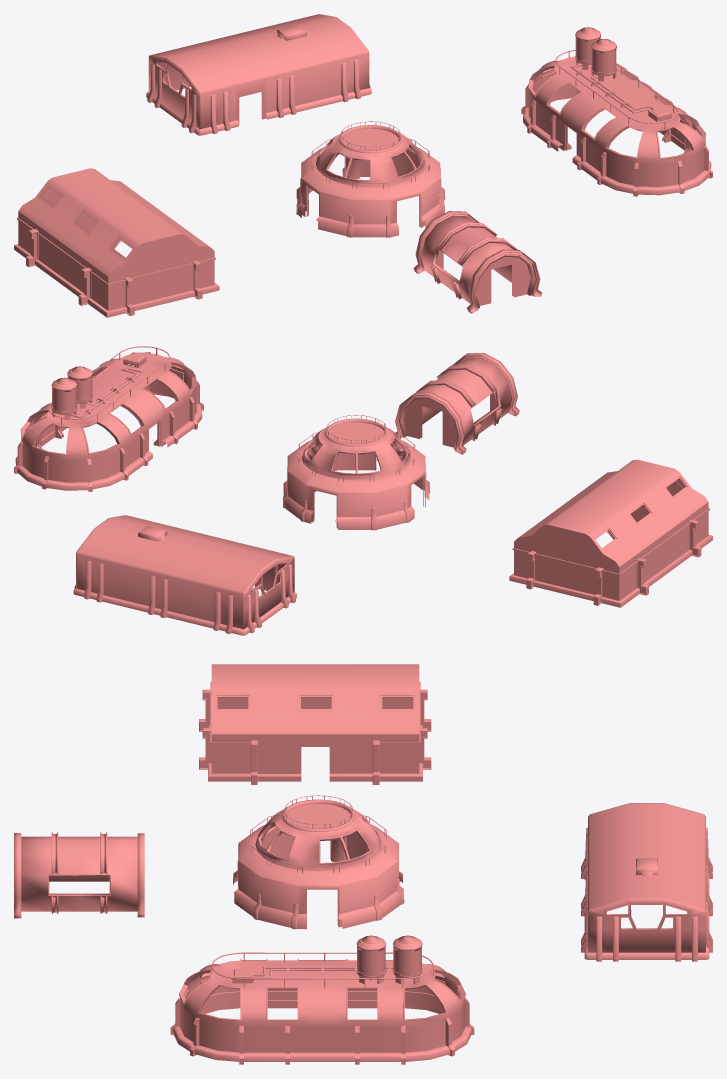
The model's file is Moduli_assemblati.FBX.
The picture shows the model from 3 angles, top to bottom: view 1: azimuth 30°, elevation 25°; view 2: azimuth 150°, elevation 25°; view 3: azimuth 270°, elevation 25°; orthographic projection. The views are drawn at different scales.
Parts seen in each view (by area): view 1: Lab_medico_low, laboratorio_ext, IDRO_muro, HUB_muro, Depressurizza, IDRO_Component, HUB_colonne; view 2: Lab_medico_low, laboratorio_ext, IDRO_muro, HUB_muro, Depressurizza, IDRO_Component, HUB_colonne; view 3: Lab_medico_low, IDRO_muro, laboratorio_ext, HUB_muro, IDRO_Component, Depressurizza, HUB_colonne.
Boxes of the visible parts, <box> form: Lab_medico_low: <box>14,168,219,317</box>; laboratorio_ext: <box>146,14,371,135</box>; IDRO_muro: <box>528,56,706,186</box>; HUB_muro: <box>296,128,445,237</box>; Depressurizza: <box>413,211,542,313</box>; IDRO_Component: <box>521,27,712,196</box>; HUB_colonne: <box>305,121,429,216</box>; Lab_medico_low: <box>509,459,712,607</box>; laboratorio_ext: <box>73,515,296,635</box>; IDRO_muro: <box>20,352,197,482</box>; HUB_muro: <box>283,422,430,530</box>; Depressurizza: <box>395,352,519,454</box>; IDRO_Component: <box>14,346,203,491</box>; HUB_colonne: <box>297,415,415,521</box>; Lab_medico_low: <box>199,664,431,784</box>; IDRO_muro: <box>179,959,465,1052</box>; laboratorio_ext: <box>581,803,712,961</box>; HUB_muro: <box>233,803,404,929</box>; IDRO_Component: <box>170,935,474,1064</box>; Depressurizza: <box>14,832,144,918</box>; HUB_colonne: <box>250,795,386,873</box>.
Size of the model in its own units: 64.13 by 8.84 by 54.19.
